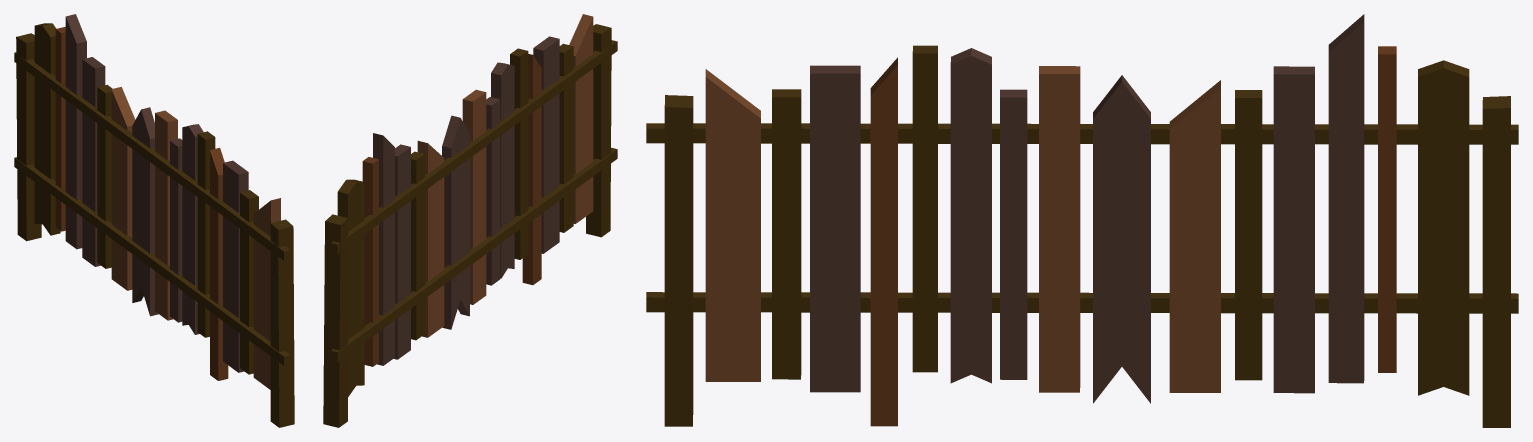
The model's file is fence.fbx.
3 renders of one model, left to right at view 1: azimuth 30°, elevation 25°; view 2: azimuth 150°, elevation 25°; view 3: azimuth 270°, elevation 25°, orthographic. The views are drawn at different scales.
Parts seen in each view (by area): view 1: fence; view 2: fence; view 3: fence.
Part boxes in pixels (x1,y1,x2,y2): fence: (14, 14, 294, 427); fence: (323, 14, 617, 427); fence: (646, 14, 1518, 427).
Bounding box in the file's own units: 9.28 × 123 × 241.
